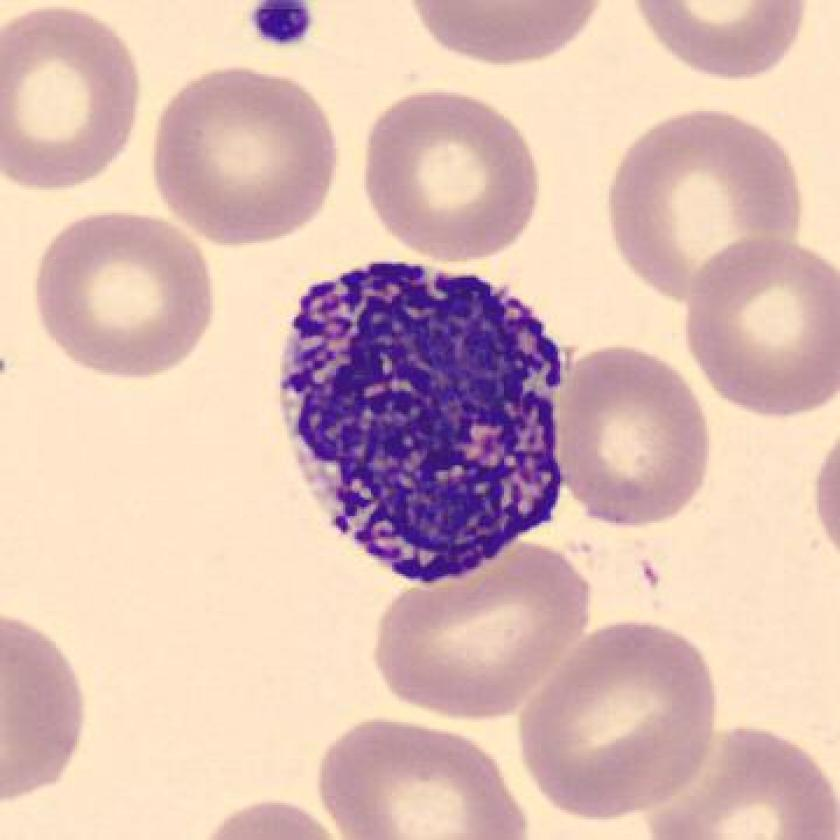basophil: (274, 249, 575, 589)
